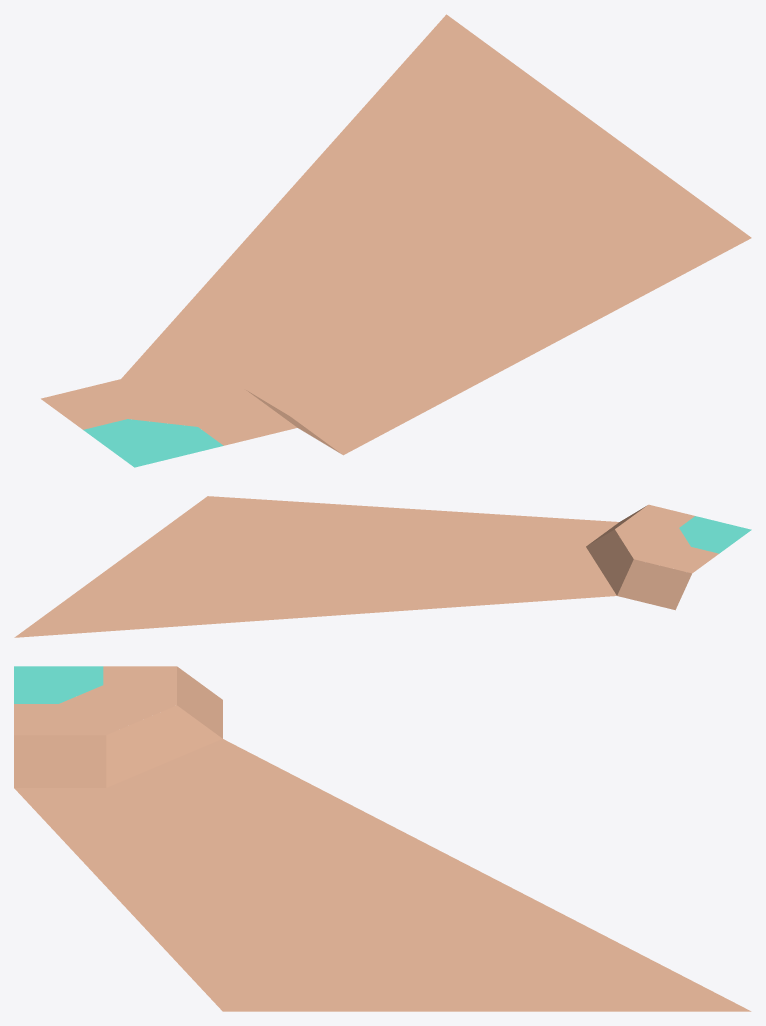
Rendered from ground_pathCornerSmall.glb.
The picture shows the model from 3 angles, top to bottom: view 1: azimuth 30°, elevation 25°; view 2: azimuth 150°, elevation 25°; view 3: azimuth 270°, elevation 25°; orthographic projection. The views are drawn at different scales.
Parts seen in each view (by area): view 1: ground_pathCornerSmall; view 2: ground_pathCornerSmall; view 3: ground_pathCornerSmall.
Part boxes in pixels (x1,y1,x2,y2): ground_pathCornerSmall: (41, 14, 751, 467); ground_pathCornerSmall: (14, 496, 751, 637); ground_pathCornerSmall: (14, 666, 751, 1011).
Bounding box in the file's own units: 1 × 0.0501 × 1.
